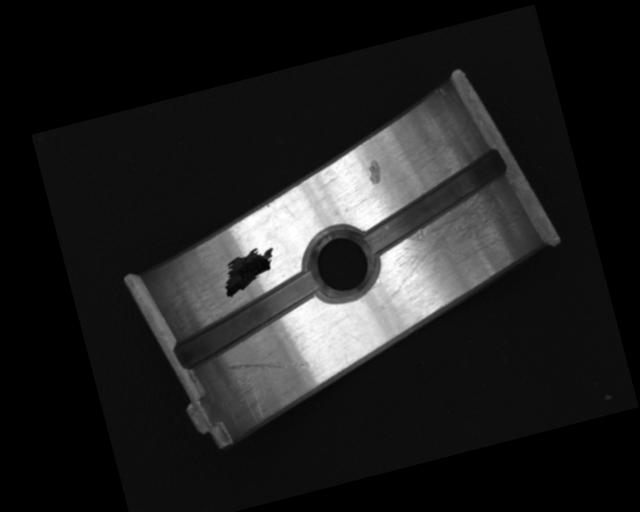blot: (216, 242, 283, 300)
bruise: (364, 158, 384, 186)
gap: (350, 147, 519, 259), (163, 267, 331, 371)
hole: (299, 220, 387, 307)
nick: (225, 345, 310, 388)
scratch: (371, 180, 530, 297)
